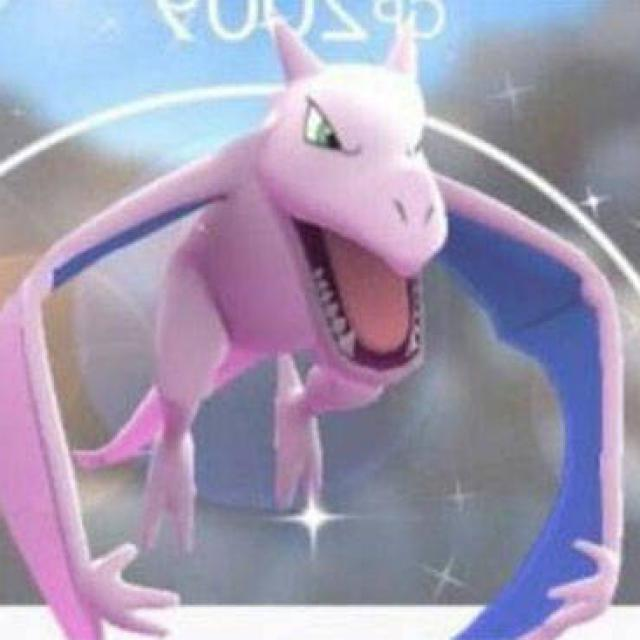Aerodactyl: (47, 28, 563, 521)
